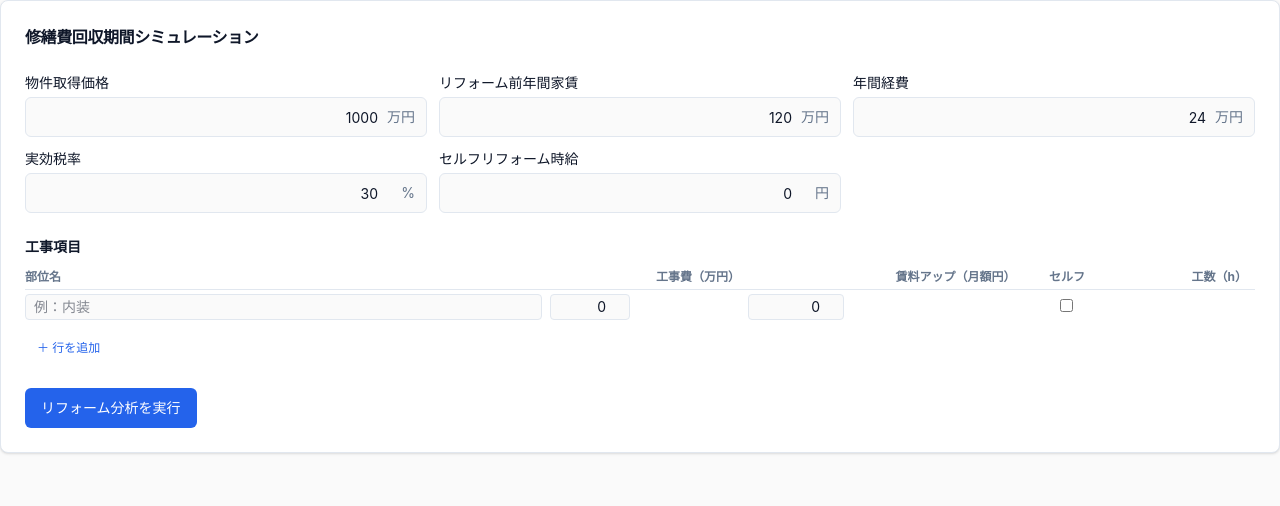
RenovationPanel › 「＋ 行を追加」ボタンをクリックすると工事項目が増える
Expected: the number of fields with placeholder "例：内装" is 1, [25, 294, 542, 320]
Click the button with aria-label "工事項目を追加" at (69, 348), box [25, 332, 112, 364]
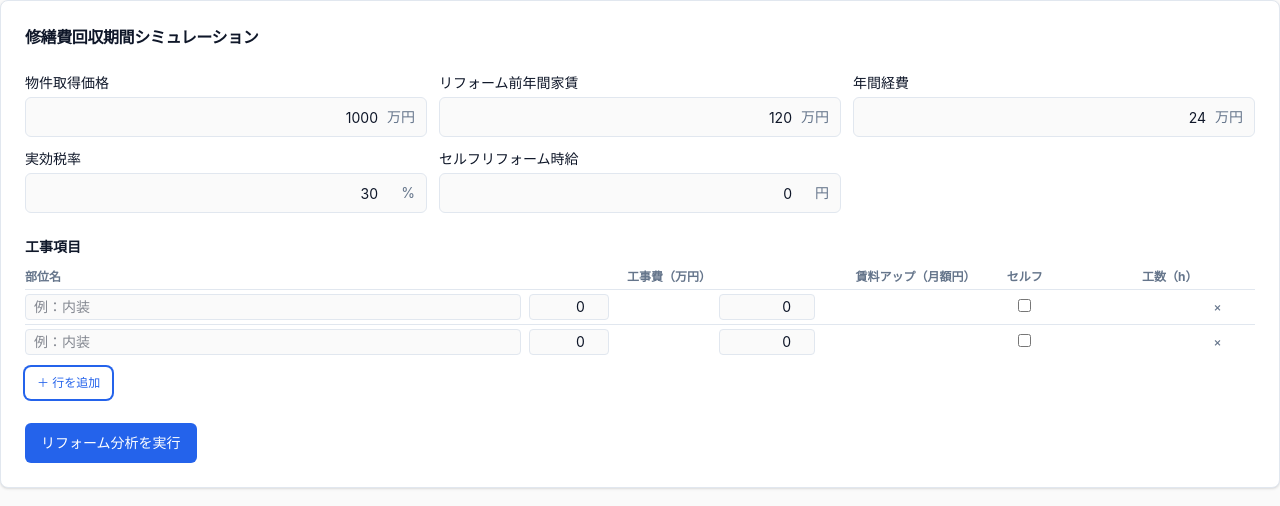
Expected: the number of fields with placeholder "例：内装" is 2, [25, 294, 521, 320]; [25, 329, 521, 355]
